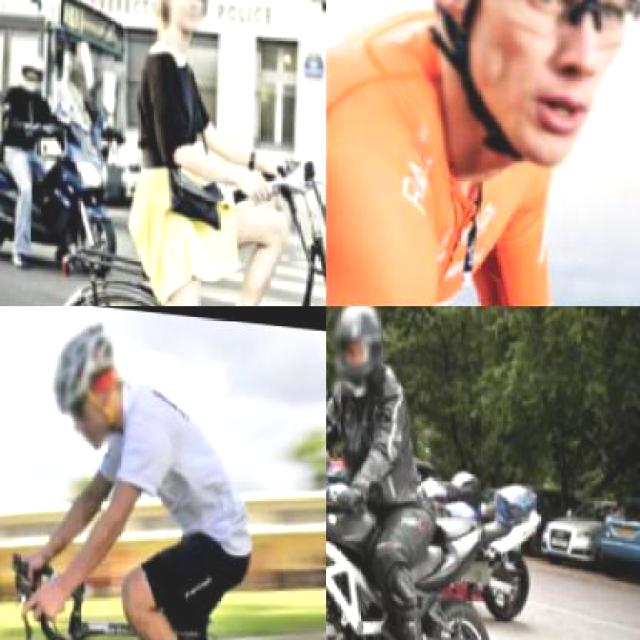With Helmet: (404, 0, 638, 180), (47, 306, 121, 445), (326, 306, 386, 396), (17, 48, 46, 98)
Without Helmet: (153, 0, 212, 32)
